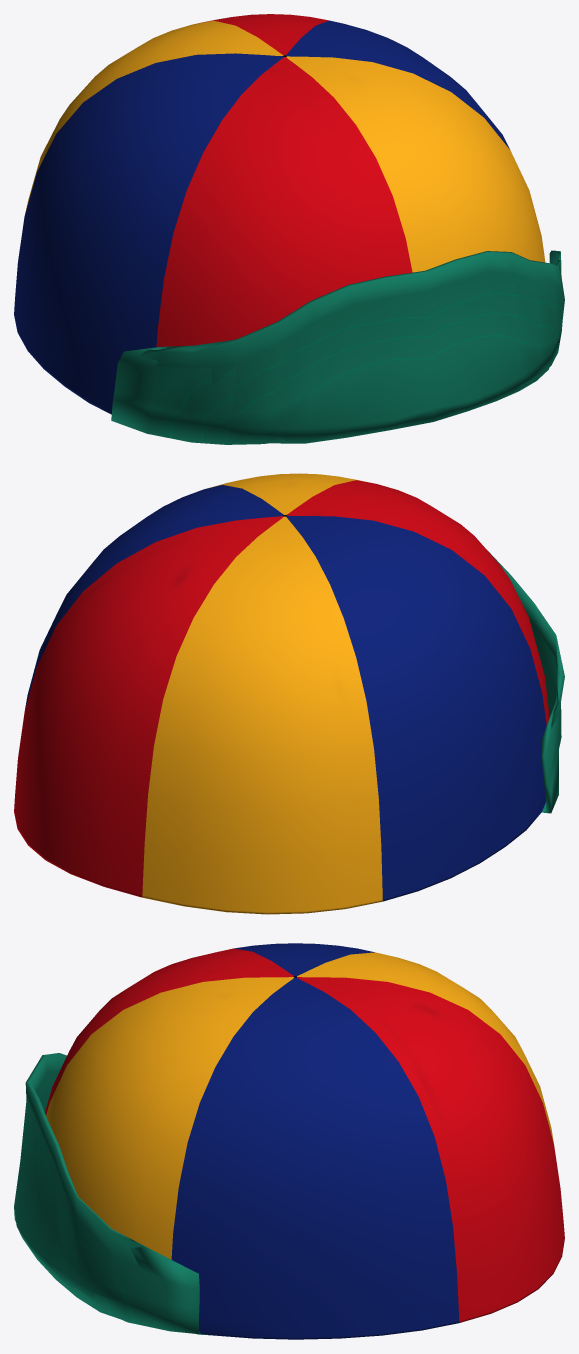
Rendered from quico_gorro.glb.
3 views of the same model, one above another, from view 1: azimuth 30°, elevation 25°; view 2: azimuth 150°, elevation 25°; view 3: azimuth 270°, elevation 25° (orthographic). The views are drawn at different scales.
Parts seen in each view (by area): view 1: cap; view 2: cap; view 3: cap.
Boxes of the visible parts, left/top/right/bottom form: cap: left=14, top=14, right=564, bottom=444; cap: left=14, top=473, right=564, bottom=914; cap: left=14, top=943, right=564, bottom=1339.
Size of the model in its own units: 0.1607 by 0.097 by 0.1847.
3 materials, 2 textured.
